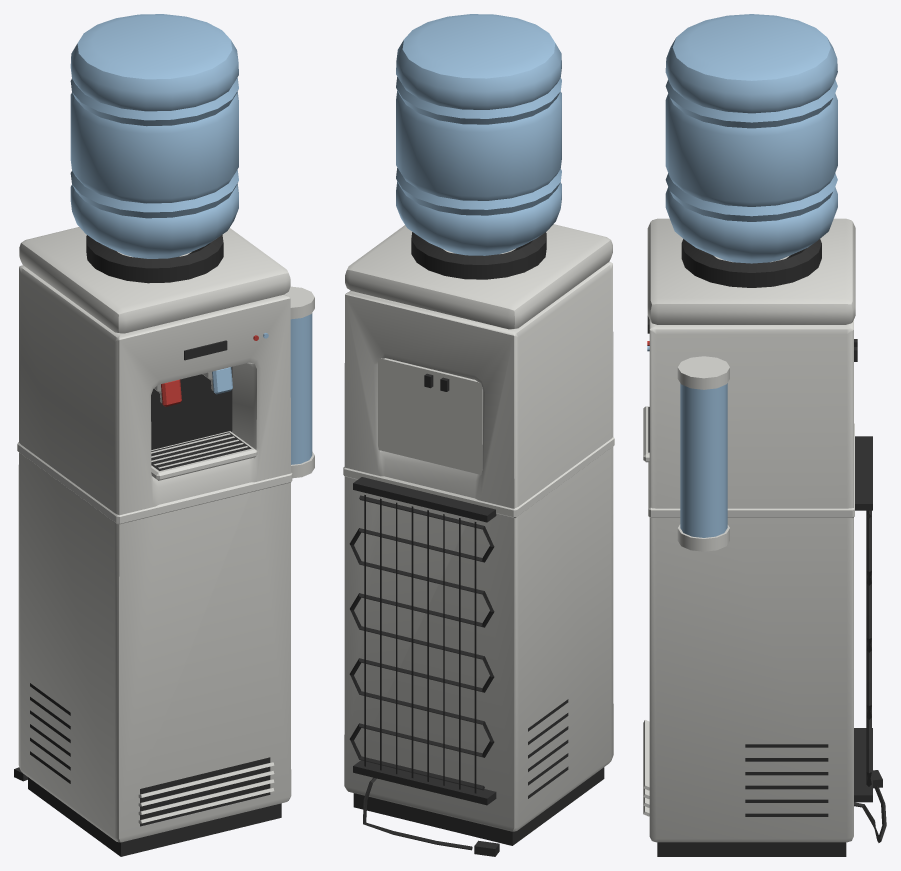
The model's file is Kit_WaterCooler.fbx.
The picture shows the model from 3 angles, left to right: view 1: azimuth 30°, elevation 25°; view 2: azimuth 150°, elevation 25°; view 3: azimuth 270°, elevation 25°; orthographic projection. The views are drawn at different scales.
Parts seen in each view (by area): view 1: Kit_WaterCooler_LOD0; view 2: Kit_WaterCooler_LOD0; view 3: Kit_WaterCooler_LOD0.
Boxes of the visible parts, <box> form: Kit_WaterCooler_LOD0: <box>14,14,314,856</box>; Kit_WaterCooler_LOD0: <box>343,14,614,856</box>; Kit_WaterCooler_LOD0: <box>643,14,886,856</box>.
Size of what is drawn, in the model's own units: 0.408 by 1.34 by 0.3815.
